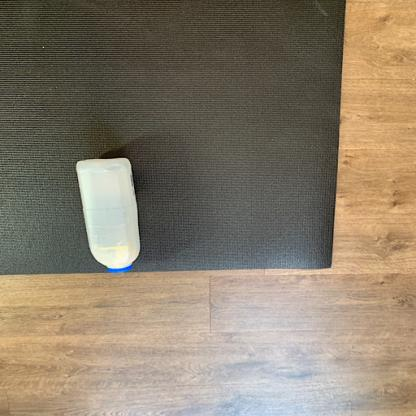trash: (74, 154, 144, 278)
